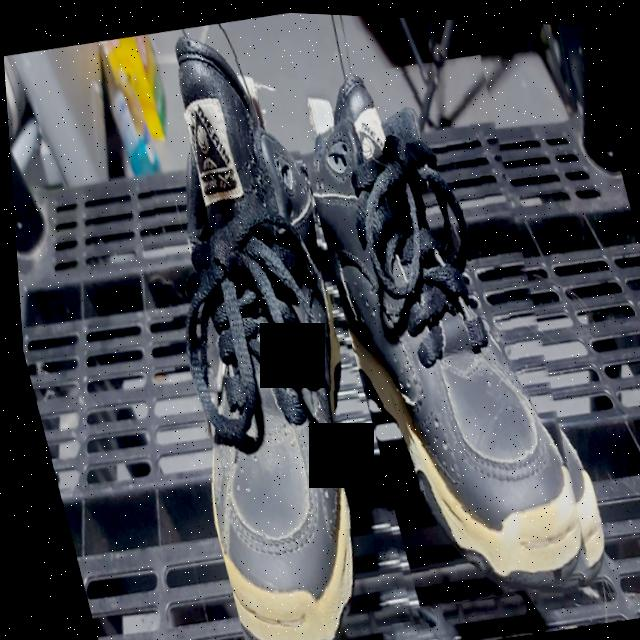shoe: (90, 13, 420, 640), (282, 43, 612, 615)
